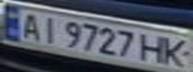2: (97, 25, 118, 56)
7: (115, 28, 139, 60), (78, 21, 100, 53)
9: (57, 18, 84, 48)
A: (15, 10, 45, 40)
H: (139, 31, 169, 64)
I: (36, 15, 63, 43)
K: (160, 35, 193, 69)
